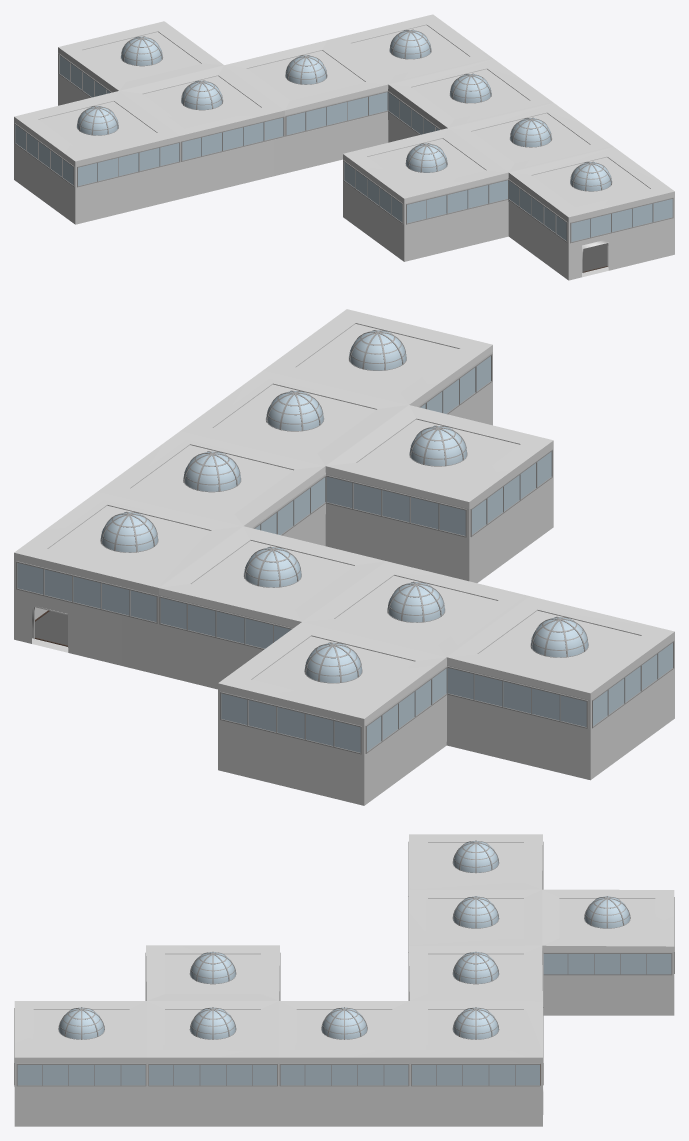
The model's file is wall_edited2.fbx.
3 renders of one model, top to bottom at view 1: azimuth 30°, elevation 25°; view 2: azimuth 150°, elevation 25°; view 3: azimuth 270°, elevation 25°, orthographic. The views are drawn at different scales.
Visible parts, largest first — view 1: wall_2, ceiling, windows, sphere.007, sphere, sphere.005, sphere.004, sphere.001, sphere.008, sphere.006, sphere.003, sphere.002 (+1 smaller); view 2: wall_2, ceiling, windows, sphere.008, sphere.007, sphere.001, sphere.006, sphere.005, sphere.002, sphere.004, sphere.003, sphere (+1 smaller); view 3: wall_2, ceiling, windows, sphere.006, sphere.004, sphere.001, sphere.008, sphere.007, sphere, sphere.003, sphere.002, sphere.005.
Part boxes in pixels (bbox=[...]): wall_2: bbox=[14, 14, 674, 280]; ceiling: bbox=[39, 25, 649, 207]; windows: bbox=[14, 54, 673, 243]; sphere.007: bbox=[120, 36, 162, 66]; sphere: bbox=[570, 161, 612, 191]; sphere.005: bbox=[76, 106, 118, 135]; sphere.004: bbox=[181, 80, 223, 110]; sphere.001: bbox=[509, 117, 552, 147]; sphere.008: bbox=[449, 73, 491, 103]; sphere.006: bbox=[389, 29, 431, 59]; sphere.003: bbox=[285, 55, 327, 84]; sphere.002: bbox=[405, 143, 447, 172]; wall_2: bbox=[14, 309, 674, 805]; ceiling: bbox=[48, 324, 640, 704]; windows: bbox=[16, 353, 674, 754]; sphere.008: bbox=[183, 451, 241, 492]; sphere.007: bbox=[304, 642, 362, 683]; sphere.001: bbox=[265, 390, 324, 431]; sphere.006: bbox=[100, 511, 158, 552]; sphere.005: bbox=[530, 616, 588, 657]; sphere.002: bbox=[409, 425, 467, 466]; sphere.004: bbox=[387, 581, 445, 622]; sphere.003: bbox=[243, 546, 301, 587]; sphere: bbox=[348, 330, 406, 370]; wall_2: bbox=[14, 834, 674, 1126]; ceiling: bbox=[33, 843, 655, 1049]; windows: bbox=[14, 841, 674, 1086]; sphere.006: bbox=[452, 1007, 499, 1039]; sphere.004: bbox=[452, 896, 499, 928]; sphere.001: bbox=[189, 1007, 236, 1039]; sphere.008: bbox=[321, 1007, 367, 1039]; sphere.007: bbox=[584, 896, 630, 928]; sphere: bbox=[58, 1007, 104, 1039]; sphere.003: bbox=[452, 951, 499, 984]; sphere.002: bbox=[189, 951, 236, 984]; sphere.005: bbox=[452, 840, 499, 873].
Size of the model in its own units: 4029 by 753 by 5029.
